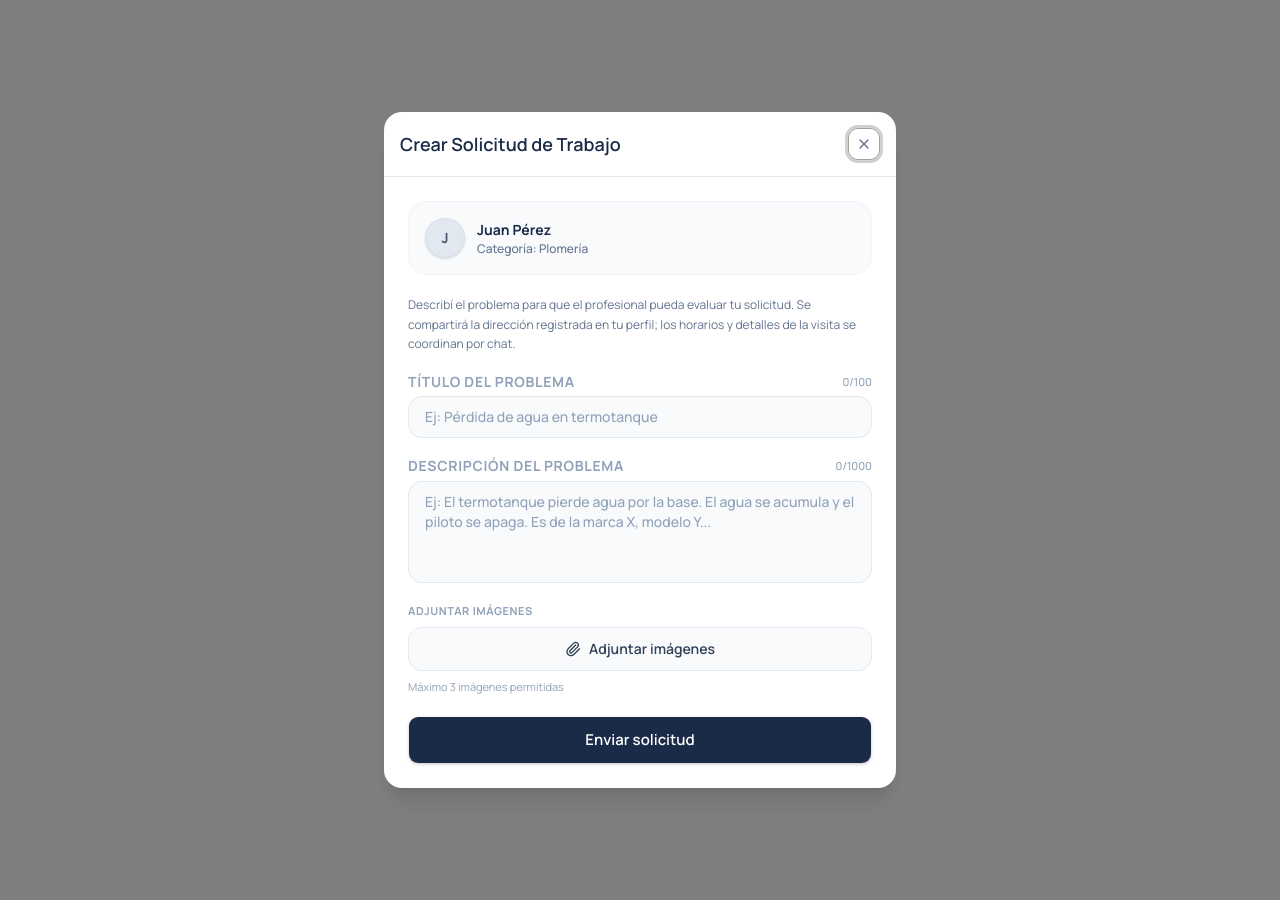
Test case: WorkRequestModal › displays specific backend error when job request already exists
Type "Gotera en cocina" into the field labelled "Título del problema".
click(640, 417); type("Gotera en cocina")  # box [408,396,872,438]
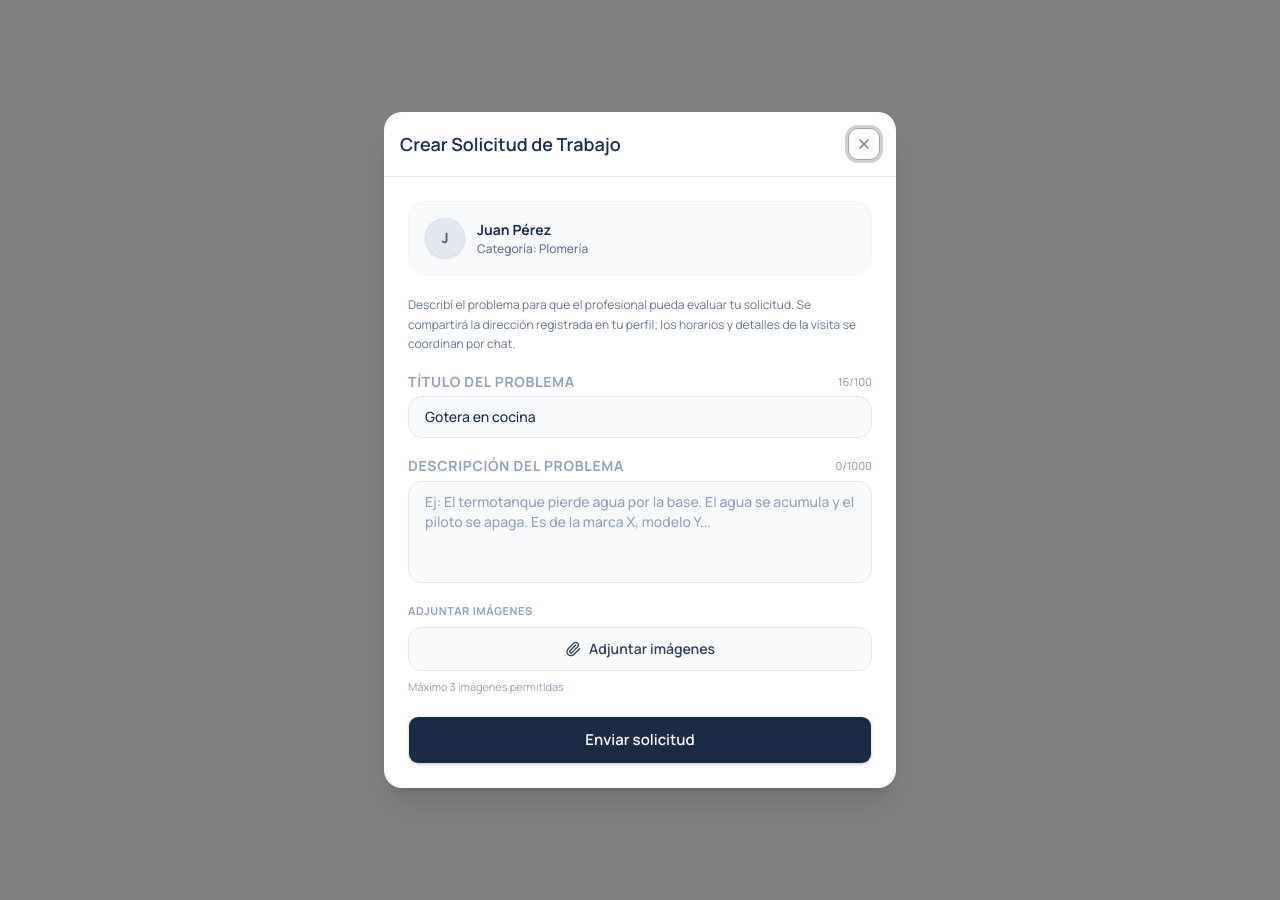
Replace the text in the text box labelled "Descripción del problema" with "Tengo una filtración debajo de la bacha." at coordinates (640, 532), box [408,480,872,582]
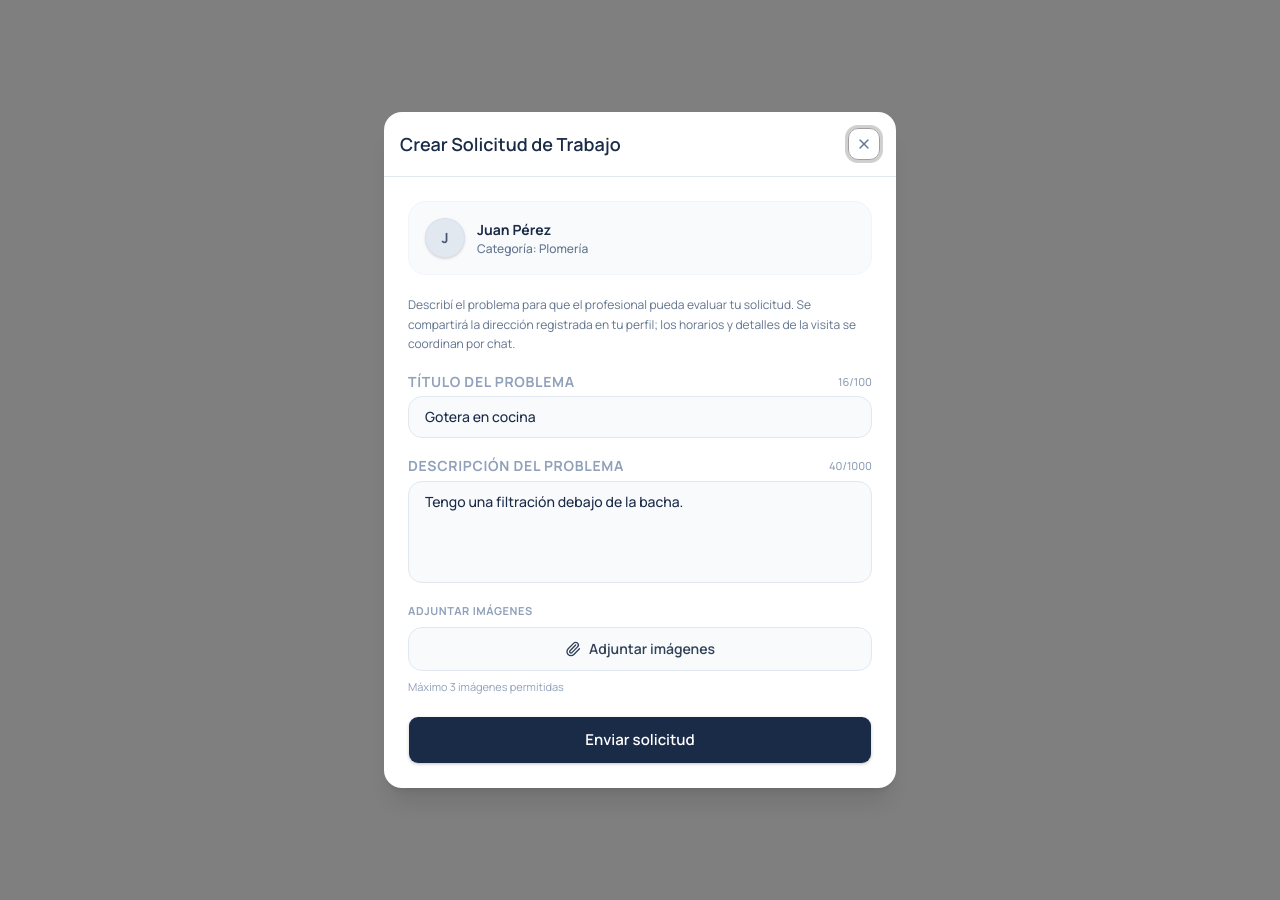
Click the button "Enviar solicitud".
click(640, 740)  # box [408,716,872,764]
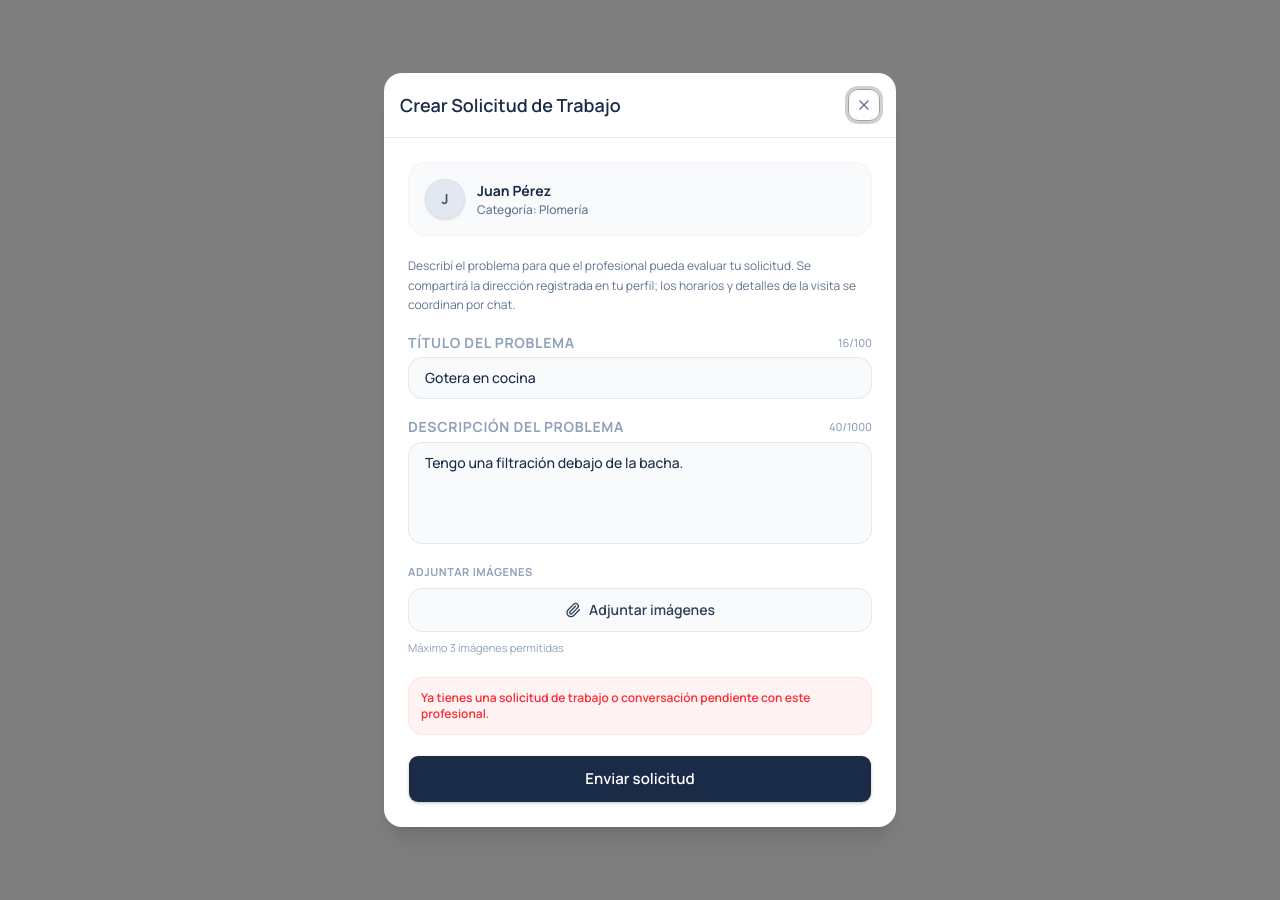
Check: the text "Ya tienes una solicitud de trabajo o conversación pendiente con este profesional." is shown, box [421,688,810,722]
